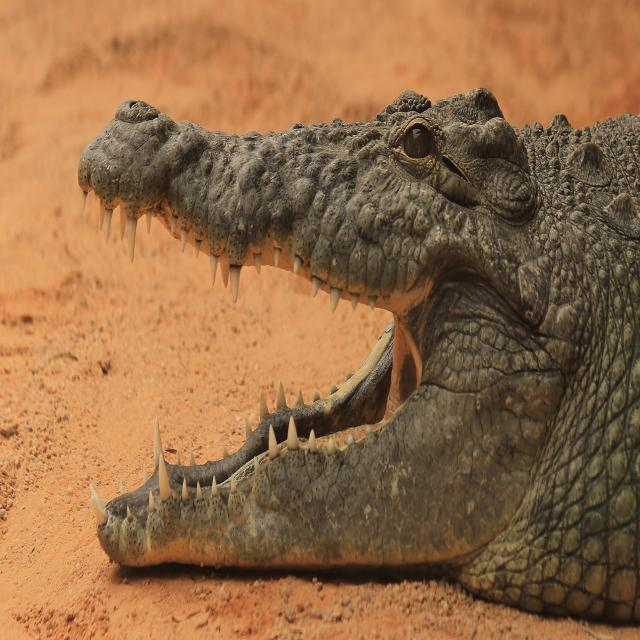crocodile: (62, 51, 640, 640)
